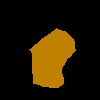maglia: (29, 28, 76, 88)
